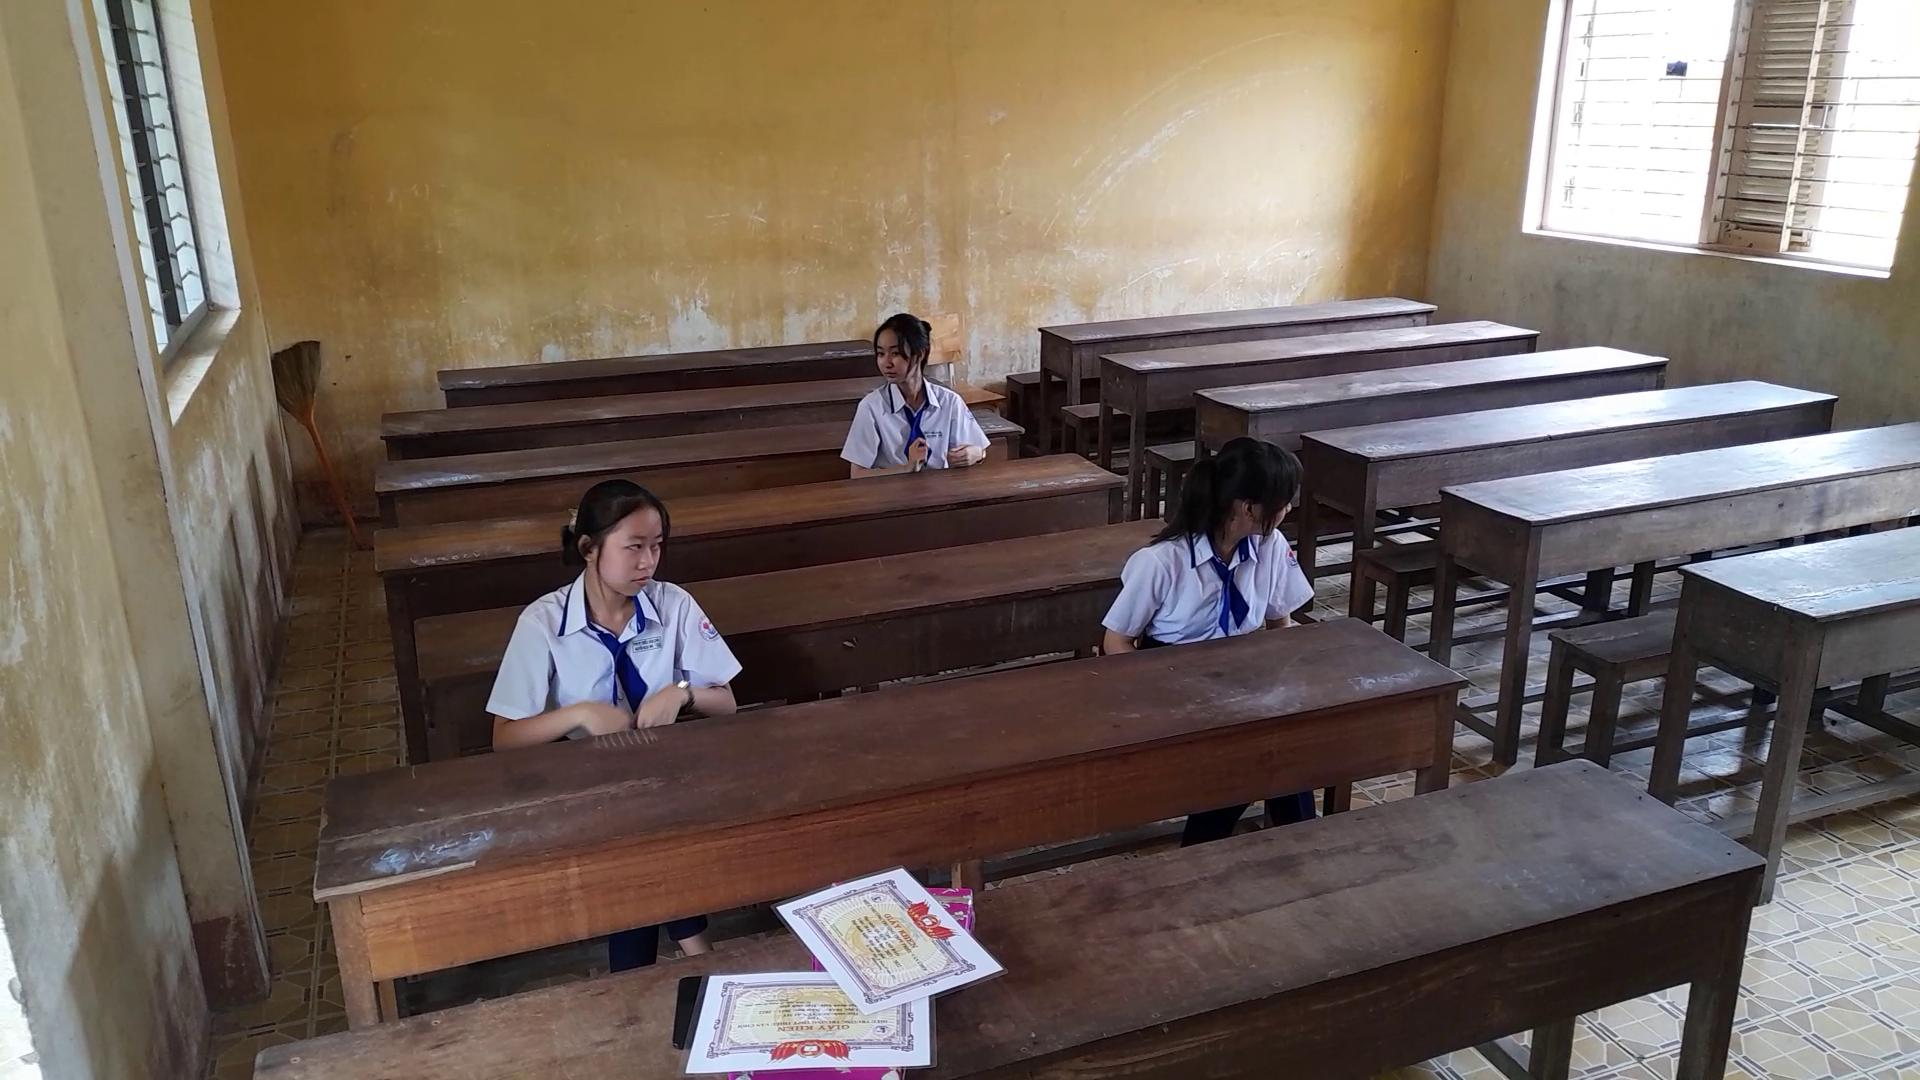Hand Under Table: (1091, 539, 1160, 659), (1254, 531, 1313, 641)
Look Around: (1156, 427, 1300, 546), (535, 477, 678, 596), (849, 286, 951, 404)
